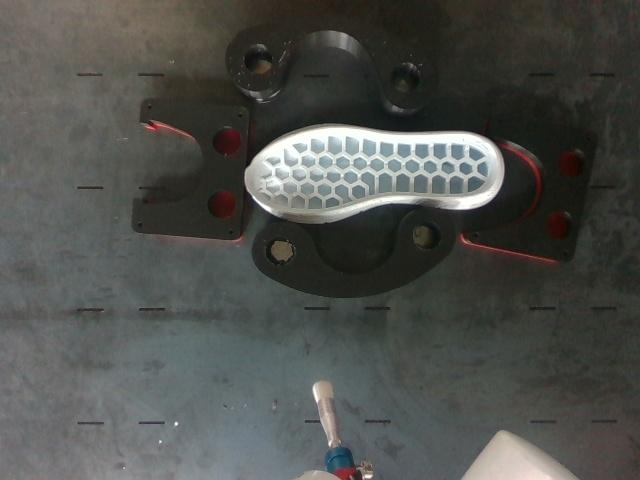shoes: (246, 127, 501, 214)
